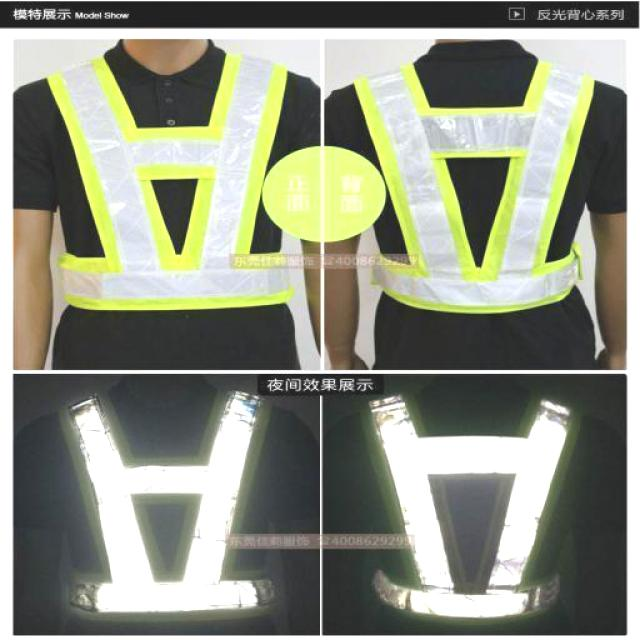vest: (22, 49, 302, 316), (342, 51, 598, 321), (347, 396, 596, 625), (61, 388, 283, 617)
